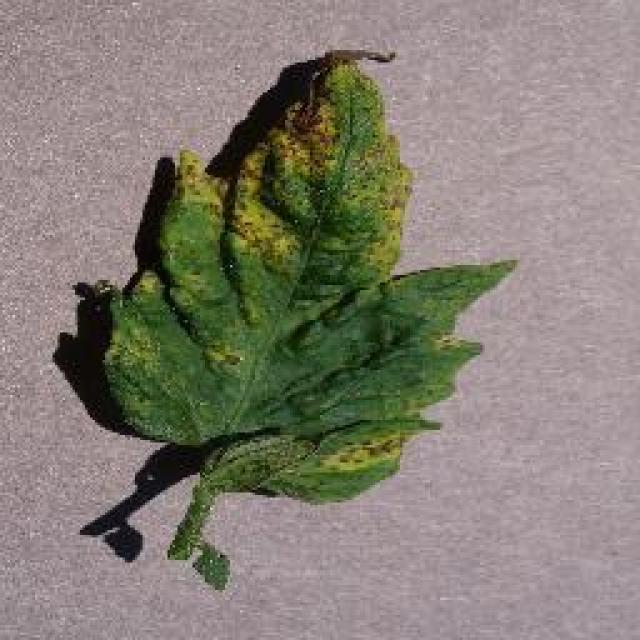Tomato target spot leaf: (98, 41, 522, 501)
